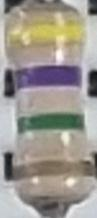Blue: (12, 64, 82, 93)
Green: (14, 110, 86, 136)
Side-Silver: (12, 157, 97, 183)
Yellow: (4, 22, 85, 51)
